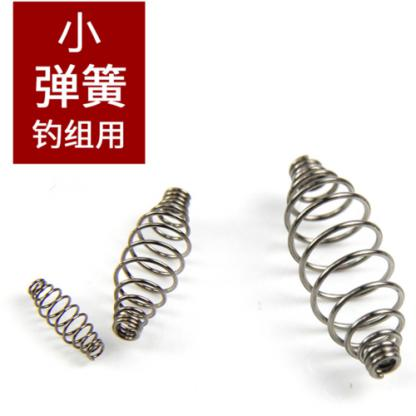FOD: (282, 154, 408, 383), (110, 184, 193, 344), (25, 276, 107, 365)
